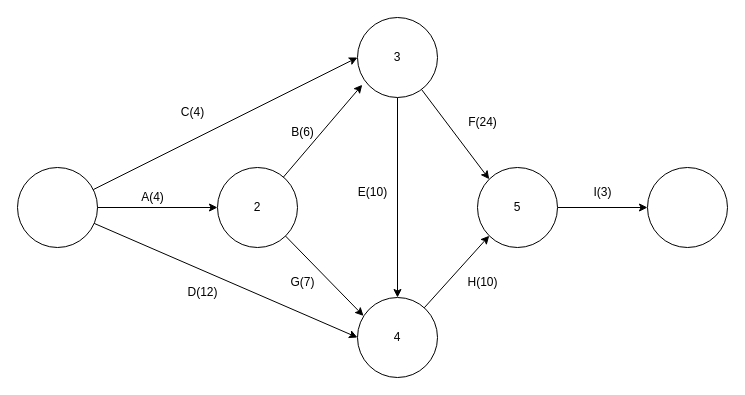
Some shapes in this 745 by 395 pixel diagram are drawn without their labels. The box of each missing label's shape, as (x1, y1, x2, y2) in pixels:
1/ Bắt Đầu: (16, 166, 98, 248)
6/KT: (646, 166, 728, 248)
